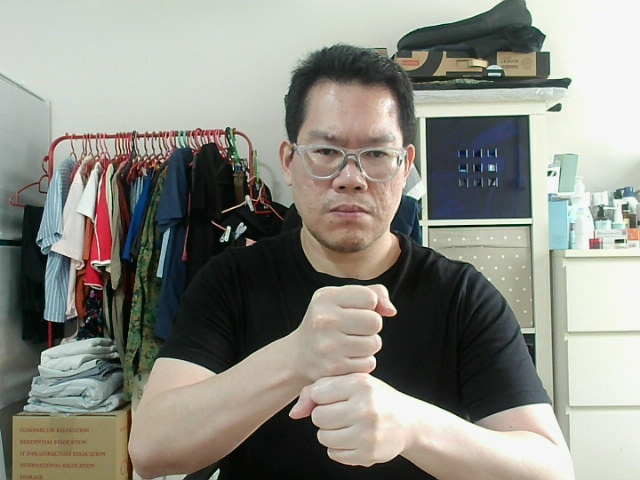get: (294, 294, 389, 364)
